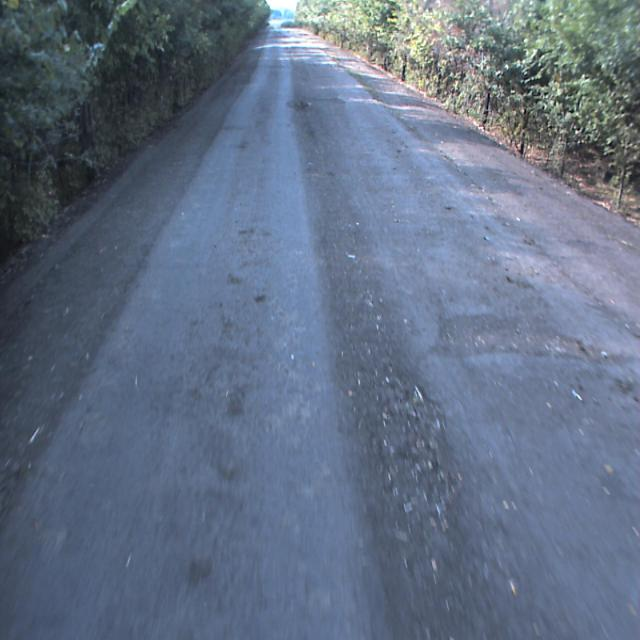road: (0, 28, 639, 639)
